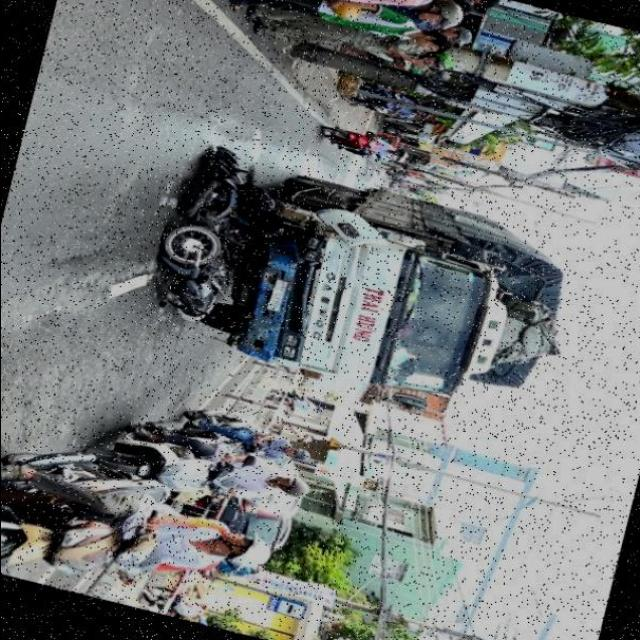accident: (95, 124, 541, 436)
